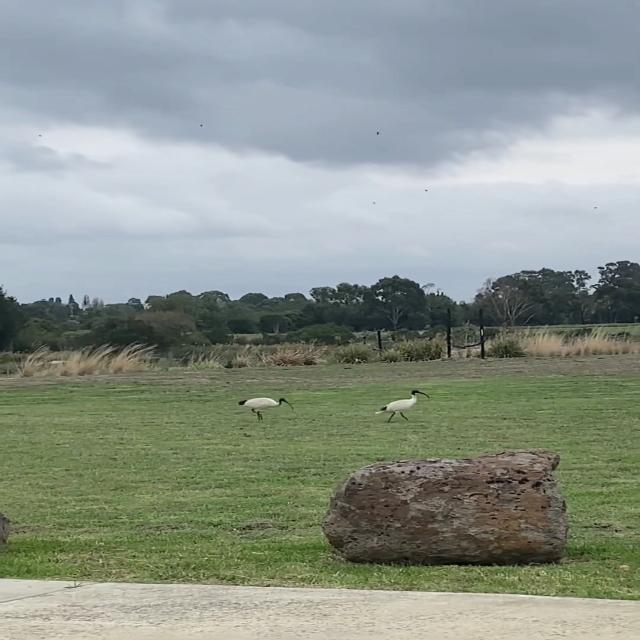Birds-Ibis: (370, 386, 434, 426), (234, 392, 297, 422)
